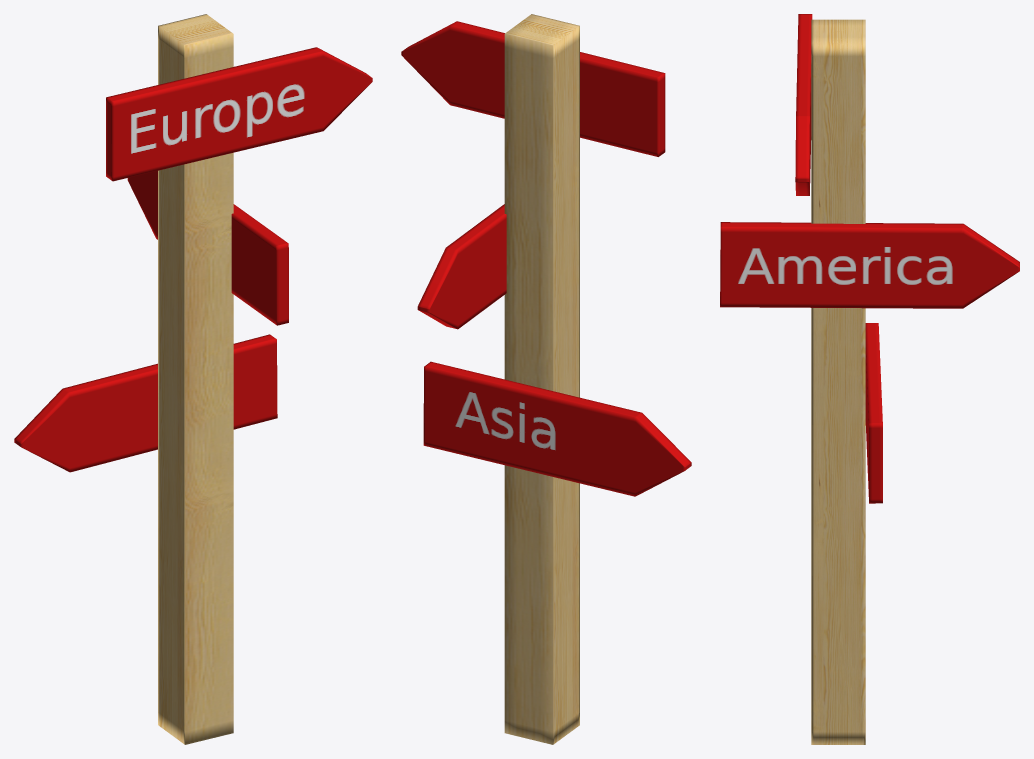
Rendered from sign.obj.
3 renders of one model, left to right at view 1: azimuth 30°, elevation 25°; view 2: azimuth 150°, elevation 25°; view 3: azimuth 270°, elevation 25°, orthographic.
Visible parts, largest first — view 1: group1; view 2: group1; view 3: group1.
Part boxes in pixels (x1,y1,x2,y2): group1: (14,14,372,744); group1: (401,14,691,744); group1: (720,14,1019,744).
Size of the model in its own units: 8.24 by 17.33 by 6.71.
4 materials, 4 textured.
